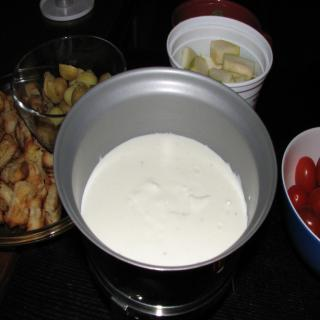Potato: (21, 64, 111, 154)
Tomato: (294, 154, 316, 195), (295, 204, 320, 236), (287, 184, 308, 208), (308, 186, 320, 214), (315, 154, 320, 186)
